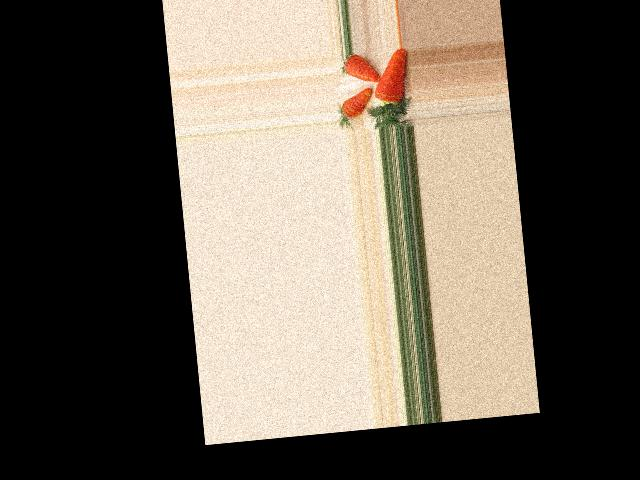carrot: (366, 48, 414, 109)
